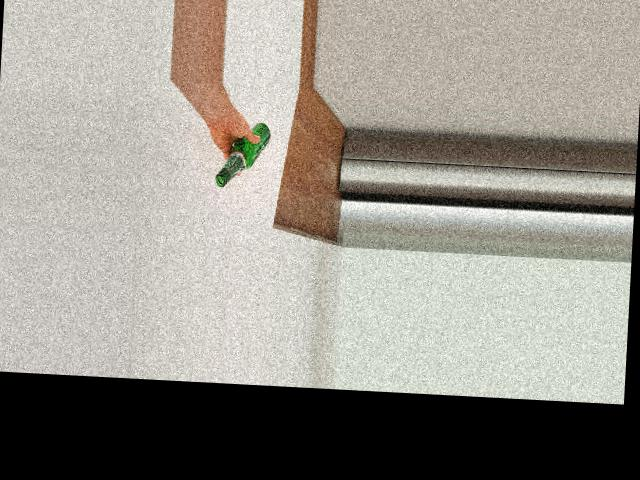beer: (213, 120, 270, 189)
